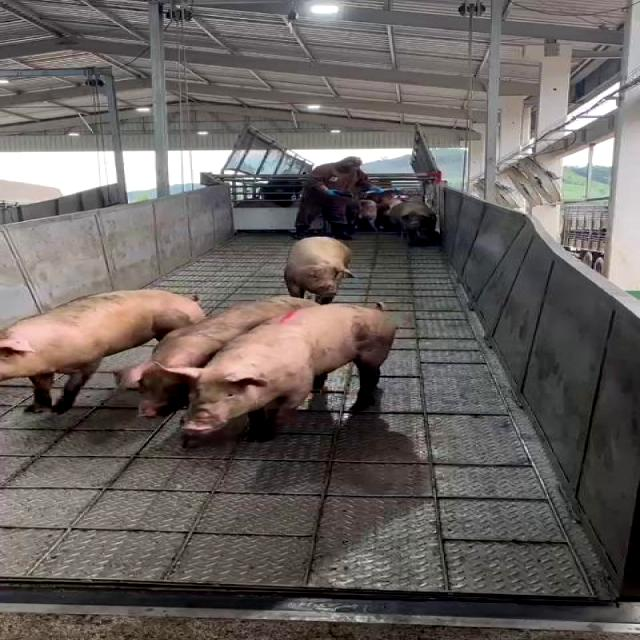pig: (170, 304, 396, 444), (0, 290, 204, 413), (133, 300, 320, 423), (284, 236, 353, 303), (390, 200, 435, 246)
